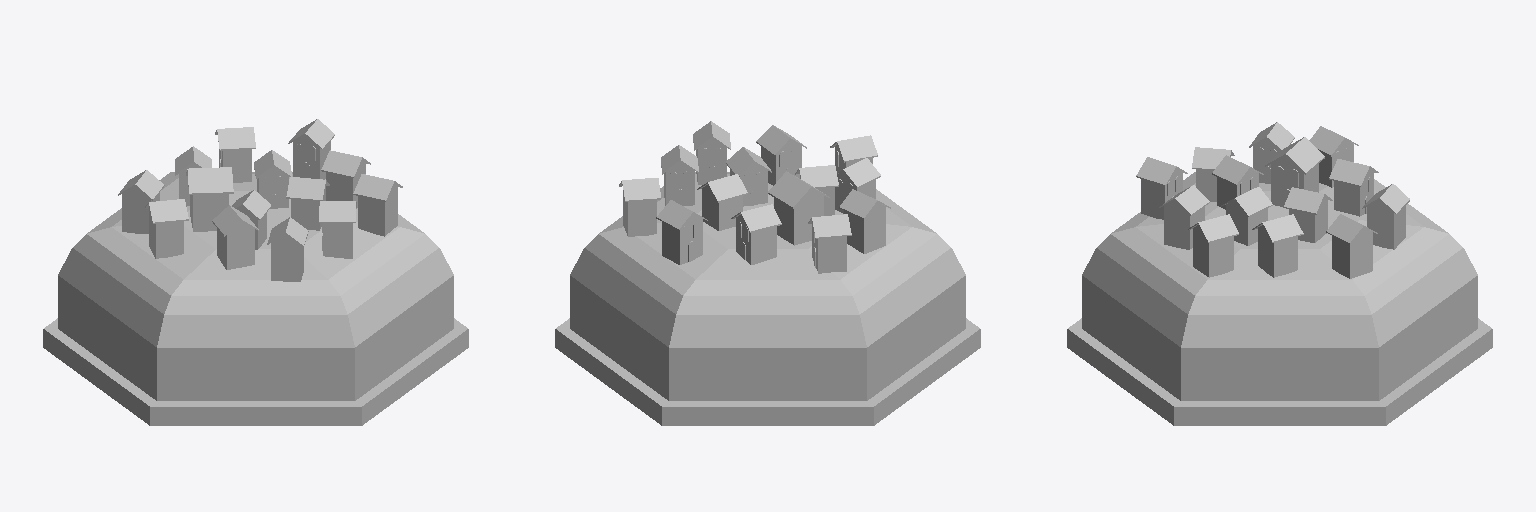
Rendered from Village.obj.
3 views of the same model, side by side, from view 1: azimuth 30°, elevation 25°; view 2: azimuth 150°, elevation 25°; view 3: azimuth 270°, elevation 25° (orthographic).
Parts seen in each view (by area): view 1: Cylinder.001, Cylinder, Cube.001, Cube.015, Cube.006, Cube.005, Cube.009, Cube.010, Cube.014, Cube.016, Cube.008, Cube.013 (+4 smaller); view 2: Cylinder.001, Cylinder, Cube.001, Cube.008, Cube.007, Cube.005, Cube.016, Cube.014, Cube.002, Cube.013, Cube.015, Cube.010 (+4 smaller); view 3: Cylinder.001, Cylinder, Cube.001, Cube.015, Cube.014, Cube.013, Cube.008, Cube.010, Cube.007, Cube.009, Cube.002, Cube.003 (+4 smaller).
Part boxes in pixels (left/top/right/bottom): Cylinder.001: left=58, top=172, right=453, bottom=400; Cylinder: left=43, top=318, right=468, bottom=425; Cube.001: left=186, top=167, right=233, bottom=231; Cube.015: left=353, top=174, right=402, bottom=236; Cube.006: left=212, top=205, right=258, bottom=269; Cube.005: left=145, top=199, right=188, bottom=258; Cube.009: left=267, top=217, right=308, bottom=281; Cube.010: left=319, top=201, right=356, bottom=258; Cube.014: left=288, top=119, right=334, bottom=179; Cube.016: left=118, top=170, right=164, bottom=233; Cube.008: left=215, top=127, right=255, bottom=182; Cube.013: left=321, top=150, right=370, bottom=208; Cylinder.001: left=570, top=172, right=965, bottom=400; Cylinder: left=555, top=318, right=980, bottom=425; Cube.001: left=768, top=171, right=829, bottom=245; Cube.008: left=656, top=200, right=707, bottom=264; Cube.007: left=731, top=204, right=781, bottom=264; Cube.005: left=839, top=189, right=890, bottom=253; Cube.016: left=808, top=214, right=851, bottom=273; Cube.014: left=619, top=178, right=660, bottom=236; Cube.002: left=697, top=174, right=747, bottom=230; Cube.013: left=661, top=145, right=698, bottom=205; Cube.015: left=693, top=121, right=730, bottom=184; Cube.010: left=756, top=125, right=806, bottom=185; Cylinder.001: left=1082, top=172, right=1477, bottom=400; Cylinder: left=1067, top=318, right=1492, bottom=425; Cube.001: left=1265, top=137, right=1324, bottom=207; Cube.015: left=1188, top=214, right=1238, bottom=277; Cube.014: left=1326, top=214, right=1377, bottom=278; Cube.013: left=1252, top=214, right=1303, bottom=277; Cube.008: left=1362, top=184, right=1409, bottom=249; Cube.010: left=1159, top=185, right=1209, bottom=249; Cube.007: left=1329, top=159, right=1378, bottom=216; Cube.009: left=1136, top=157, right=1187, bottom=219; Cube.002: left=1284, top=187, right=1332, bottom=242; Cube.003: left=1221, top=187, right=1272, bottom=245.
Size of the model in its own units: 17.32 by 9.55 by 20.